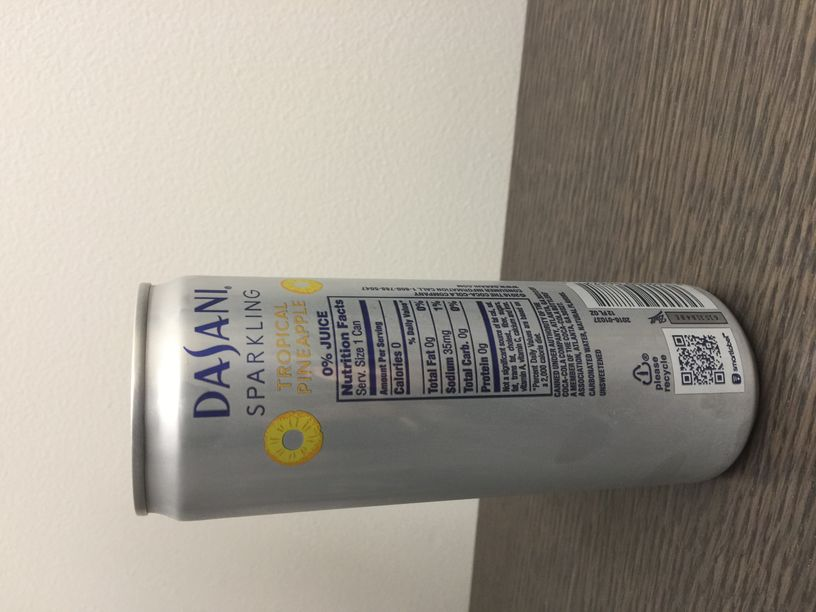pineapple: (248, 278, 335, 470)
